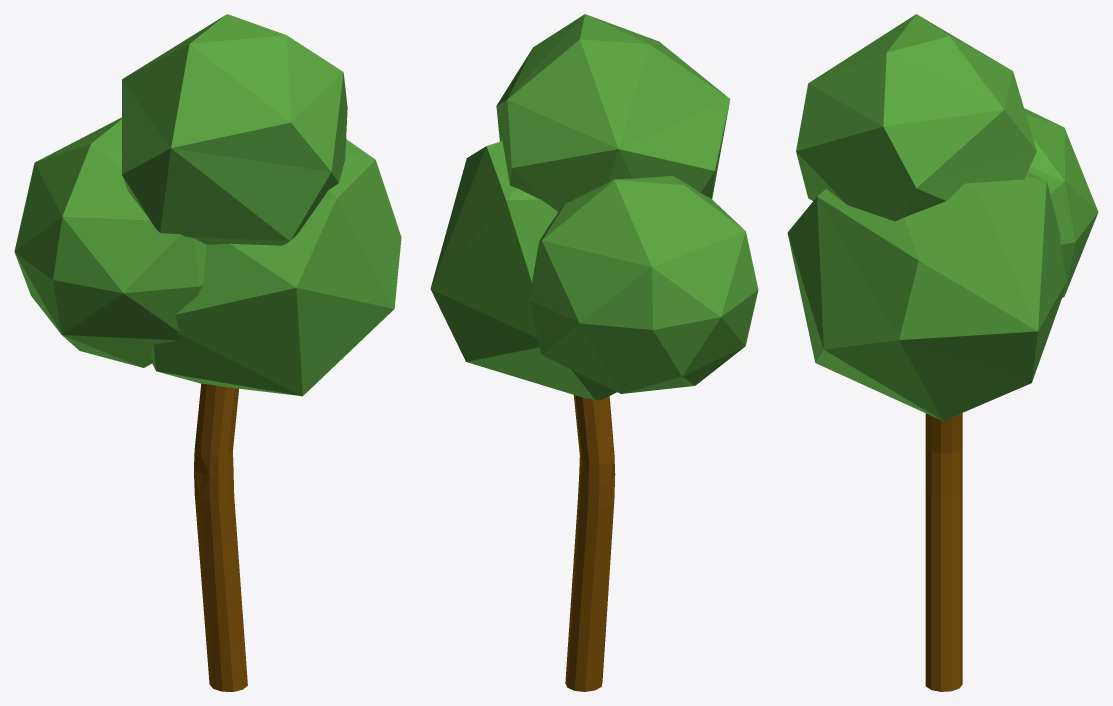
The model's file is tree1.fbx.
The picture shows the model from 3 angles, left to right: view 1: azimuth 30°, elevation 25°; view 2: azimuth 150°, elevation 25°; view 3: azimuth 270°, elevation 25°; orthographic projection. The views are drawn at different scales.
Visible parts, largest first — view 1: Icosphere.002, Icosphere, Icosphere.001, Cylinder; view 2: Icosphere.001, Icosphere.002, Icosphere, Cylinder; view 3: Icosphere, Icosphere.002, Cylinder, Icosphere.001.
Boxes of the visible parts, x1=… form: Icosphere.002: x1=122, y1=14, x2=347, y2=245; Icosphere: x1=149, y1=139, x2=401, y2=396; Icosphere.001: x1=14, y1=117, x2=206, y2=367; Cylinder: x1=194, y1=383, x2=247, y2=691; Icosphere.001: x1=530, y1=176, x2=758, y2=393; Icosphere.002: x1=496, y1=14, x2=730, y2=211; Icosphere: x1=430, y1=141, x2=616, y2=400; Cylinder: x1=565, y1=395, x2=615, y2=691; Icosphere: x1=787, y1=172, x2=1066, y2=420; Icosphere.002: x1=796, y1=14, x2=1036, y2=221; Cylinder: x1=925, y1=413, x2=962, y2=691; Icosphere.001: x1=1024, y1=108, x2=1098, y2=297.
Bounding box in the file's own units: 253 × 493 × 214.
